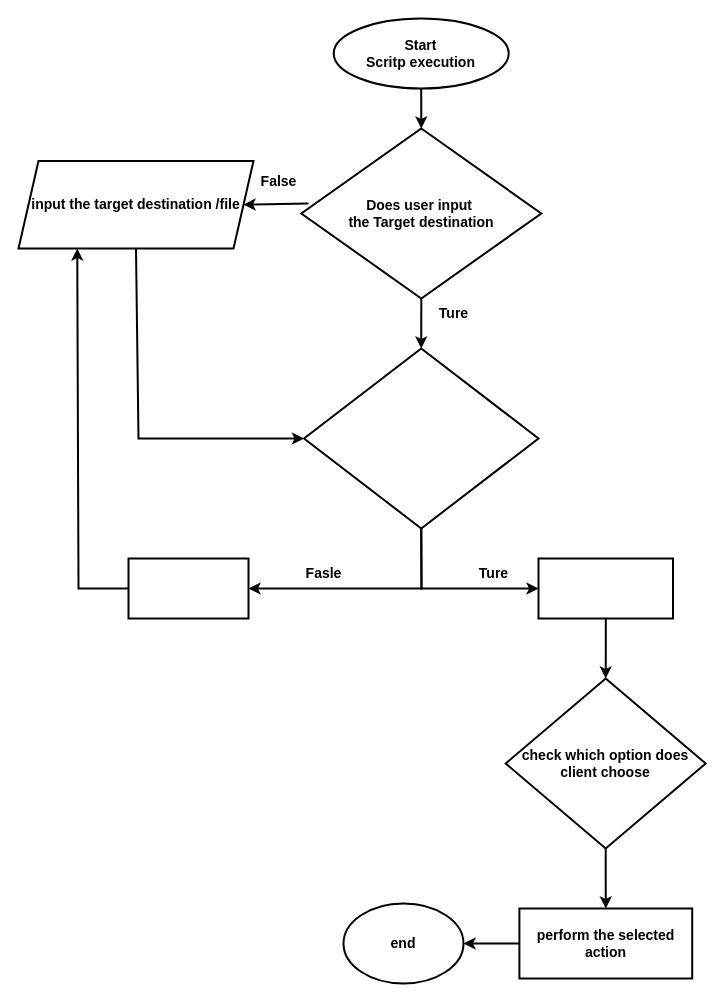
Image size: 724x1001. Some labels were removed from this diagram. The shapes that lost their labels are listed below. From the top down, each one's centre as x and y in pixels, then its label:
(x=420, y=438): Check if the input is existing
(x=188, y=588): display error massage
(x=605, y=588): List Script Options
